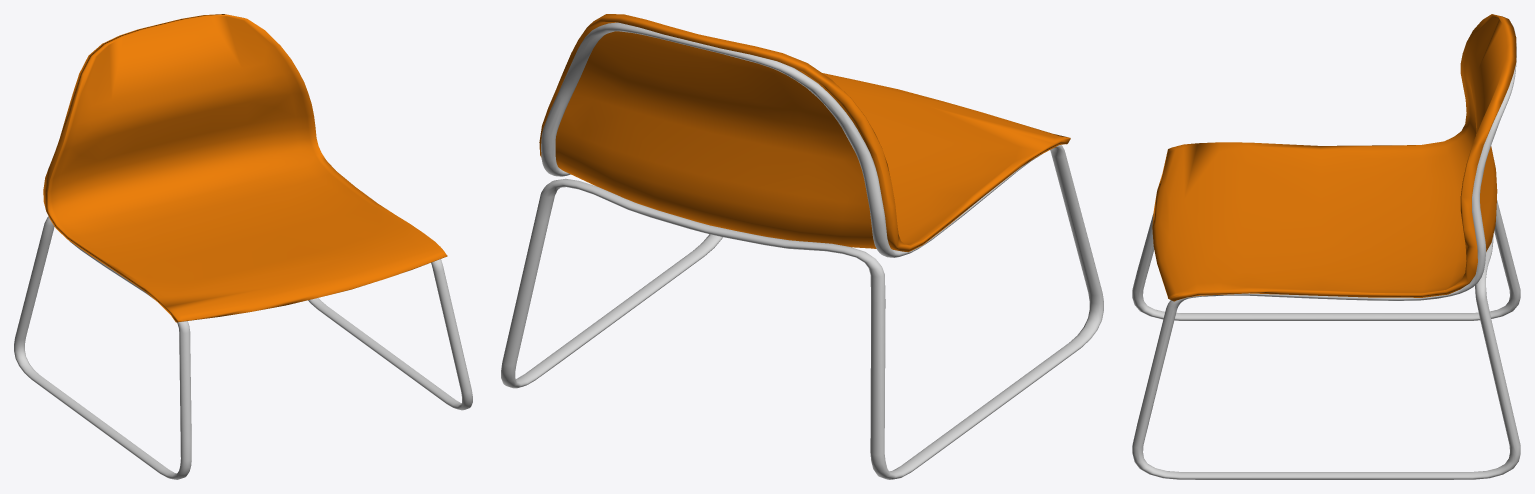
The model's file is sh-scopia-plastic-chair.glb.
3 renders of one model, left to right at view 1: azimuth 30°, elevation 25°; view 2: azimuth 150°, elevation 25°; view 3: azimuth 270°, elevation 25°, orthographic. The views are drawn at different scales.
Visible parts, largest first — view 1: Node; view 2: Node; view 3: Node.
Part boxes in pixels (x1,y1,x2,y2): Node: [14, 14, 472, 479]; Node: [501, 14, 1103, 479]; Node: [1132, 14, 1520, 479].
Bounding box in the file's own units: 0.9998 × 0.9997 × 0.9991.
